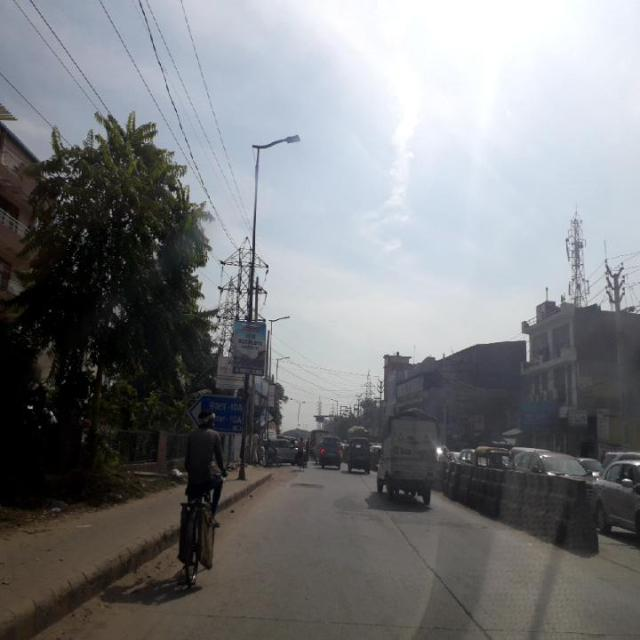D01: (426, 559, 484, 629), (385, 508, 423, 558)
